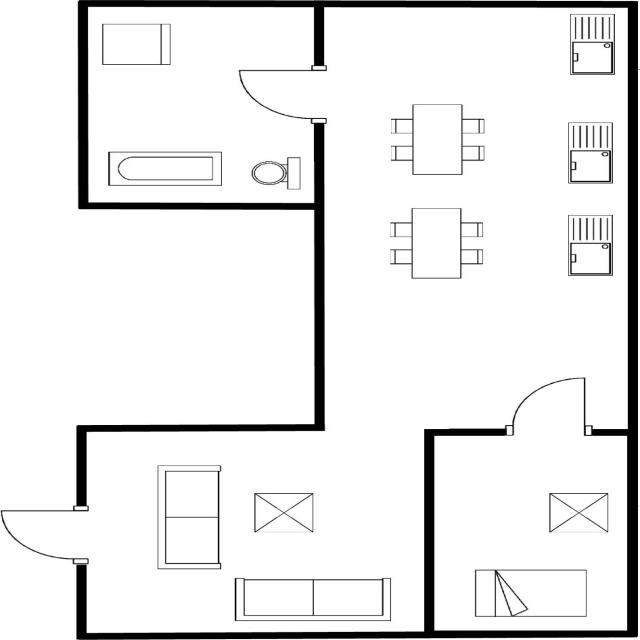bed: (464, 564, 592, 622)
coffee_table: (542, 489, 615, 537), (248, 490, 321, 536)
dining_table: (384, 202, 488, 281), (386, 102, 491, 180)
large_sink: (247, 154, 305, 194)
large_sofa: (148, 462, 225, 572), (232, 575, 394, 624)
sink: (563, 11, 618, 77), (562, 212, 617, 278), (564, 120, 618, 186)
small_sofa: (97, 19, 177, 69)
tub: (104, 148, 228, 190)
